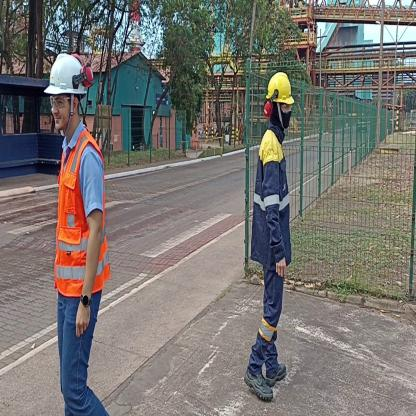Balaclava: (273, 103, 290, 129)
C_eletrica: (249, 127, 297, 274)
Capacete: (46, 50, 86, 96), (265, 67, 294, 104)
colete: (54, 141, 111, 299)
